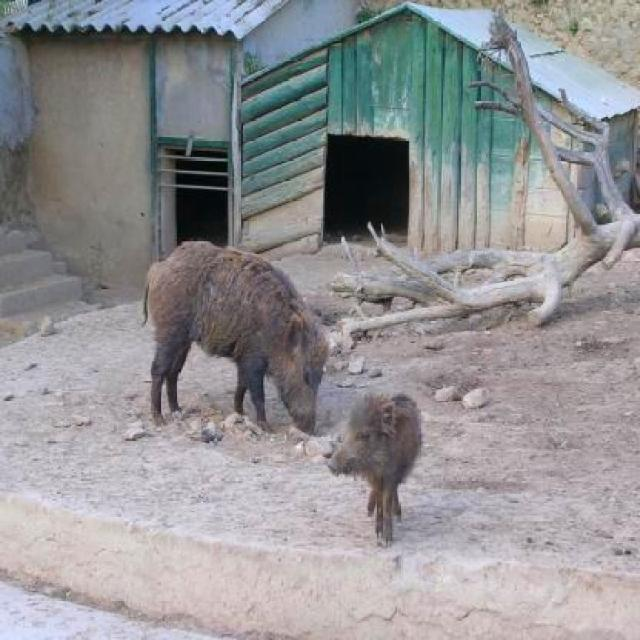Boar: (140, 236, 334, 450), (328, 392, 424, 551)
